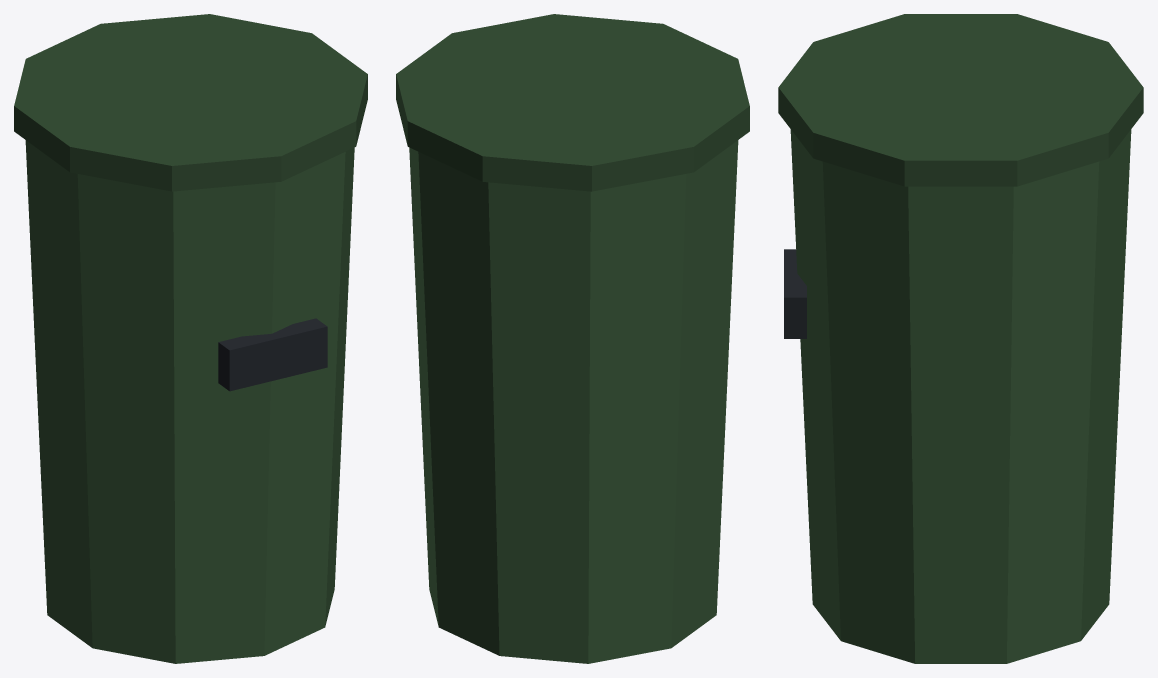
Rendered from trash_bin.glb.
3 renders of one model, left to right at view 1: azimuth 30°, elevation 25°; view 2: azimuth 150°, elevation 25°; view 3: azimuth 270°, elevation 25°, orthographic.
Visible parts, largest first — view 1: trash_bin; view 2: trash_bin; view 3: trash_bin.
Part boxes in pixels (box(x1,y1,x2,y2)): trash_bin: box(14, 14, 367, 663); trash_bin: box(396, 14, 749, 663); trash_bin: box(778, 14, 1143, 663).
Size of the model in its own units: 0.6087 by 1 by 0.64.
